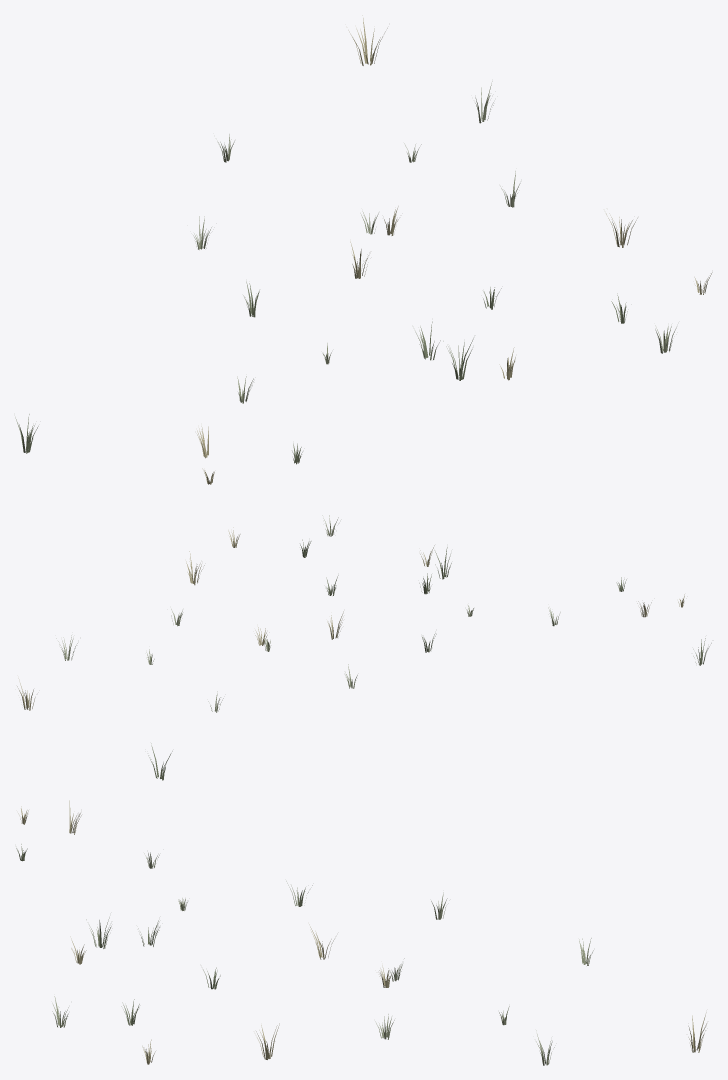
Rendered from AE_Grass_-2_0.fbx.
3 views of the same model, one above another, from view 1: azimuth 30°, elevation 25°; view 2: azimuth 150°, elevation 25°; view 3: azimuth 270°, elevation 25° (orthographic). The views are drawn at different scales.
Visible parts, largest first — view 1: AE_Grass_-2_0_LOD0; view 2: AE_Grass_-2_0_LOD0; view 3: AE_Grass_-2_0_LOD0.
Part boxes in pixels (left/top/right/bottom): AE_Grass_-2_0_LOD0: left=15, top=15, right=712, bottom=484; AE_Grass_-2_0_LOD0: left=17, top=515, right=711, bottom=712; AE_Grass_-2_0_LOD0: left=16, top=743, right=706, bottom=1065.
Size of what is drawn, in the model's own units: 1679 by 107 by 1656.
